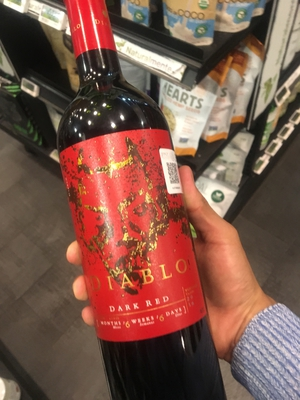diablo dark red: (52, 16, 212, 400)
